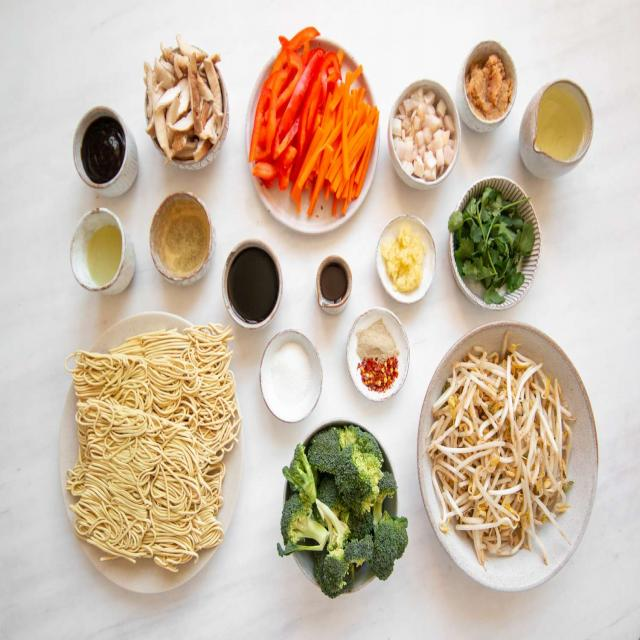Beans: (431, 340, 572, 567)
Garlic bulb: (379, 222, 427, 292)
Mushroom: (142, 30, 227, 165)
Sugar: (267, 339, 313, 409)
